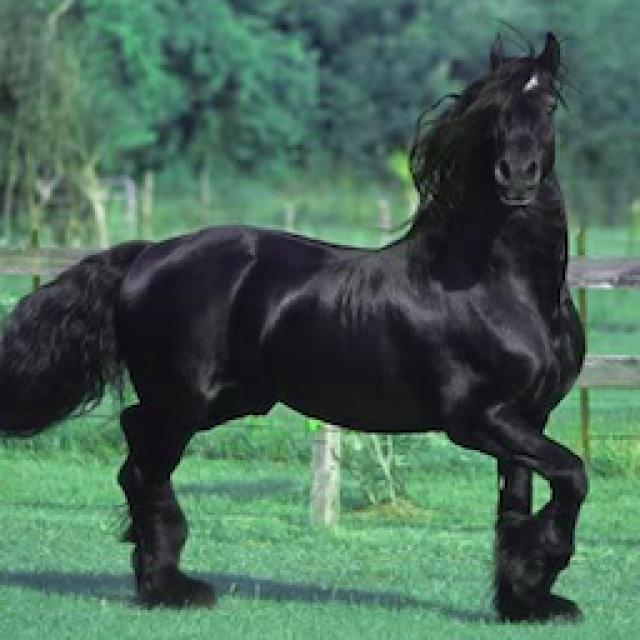Horse: (2, 22, 600, 628)
